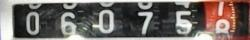digits: (173, 10, 193, 35), (135, 10, 154, 36), (59, 12, 76, 36), (98, 10, 114, 32), (214, 19, 230, 40), (26, 10, 39, 34)
